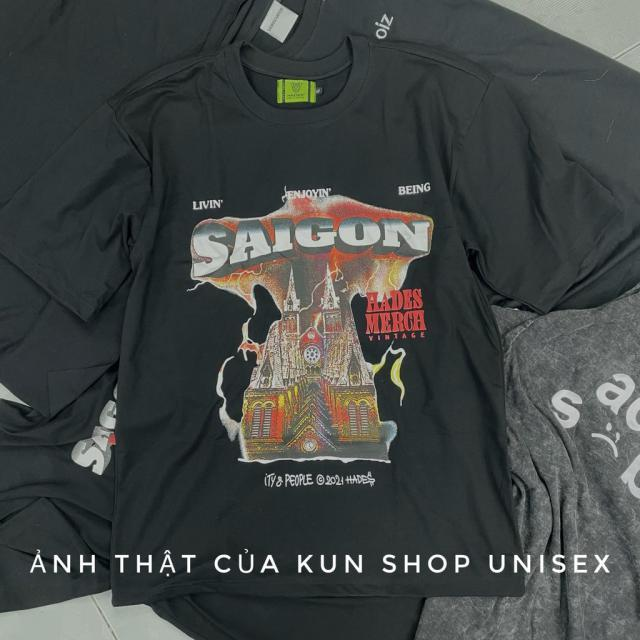Shirt: (4, 34, 638, 596)
